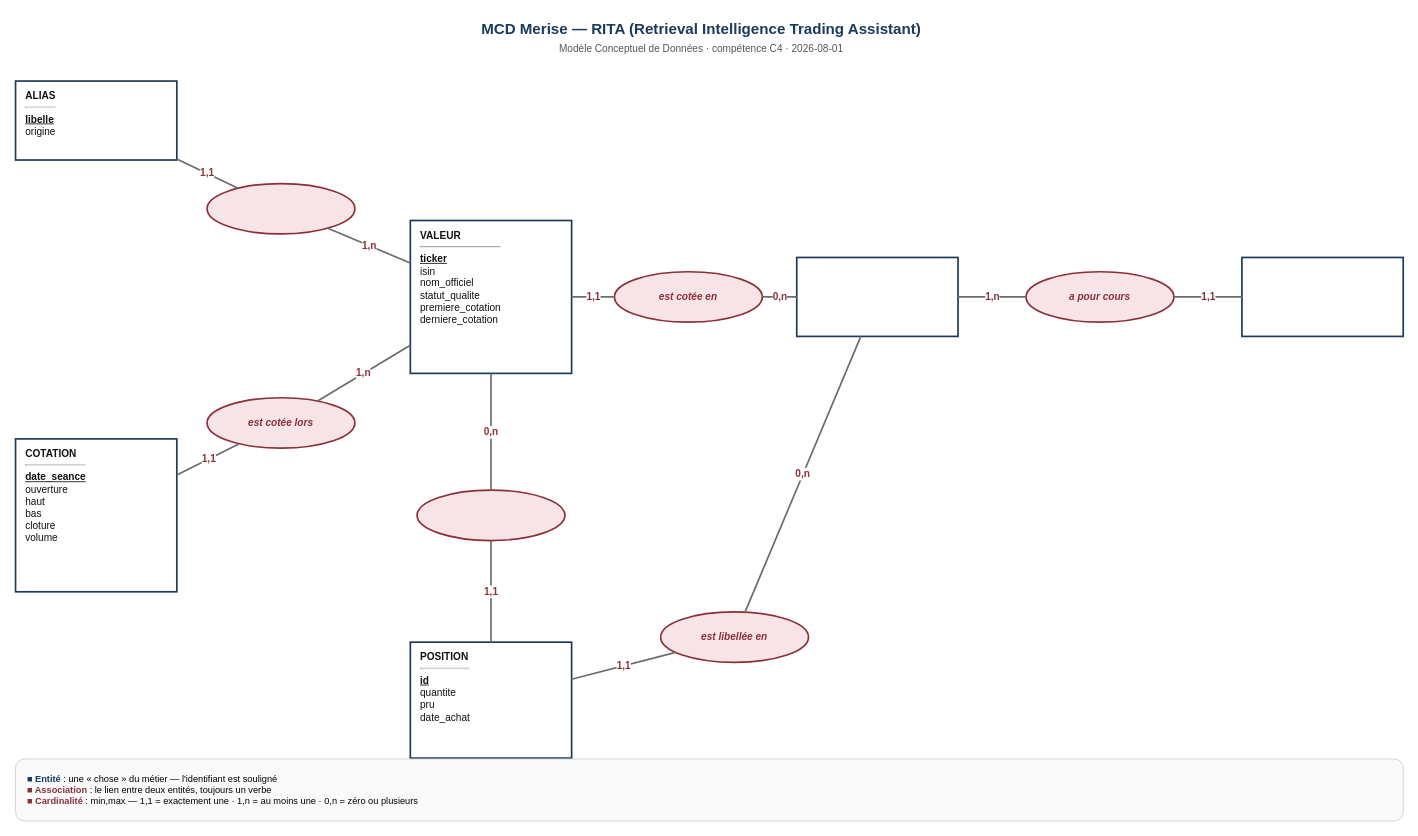
Some shapes in this 1418 by 836 pixel diagram are drawn without their labels. The centre of each missing label's shape, as x and y in pixels:
"DEVISE code libelle" goes at point (876, 296).
"est détenue" goes at point (490, 515).
"est nommée" goes at point (280, 208).
"TAUX_CHANGE date_taux valeur_pour_eur" goes at point (1322, 296).
